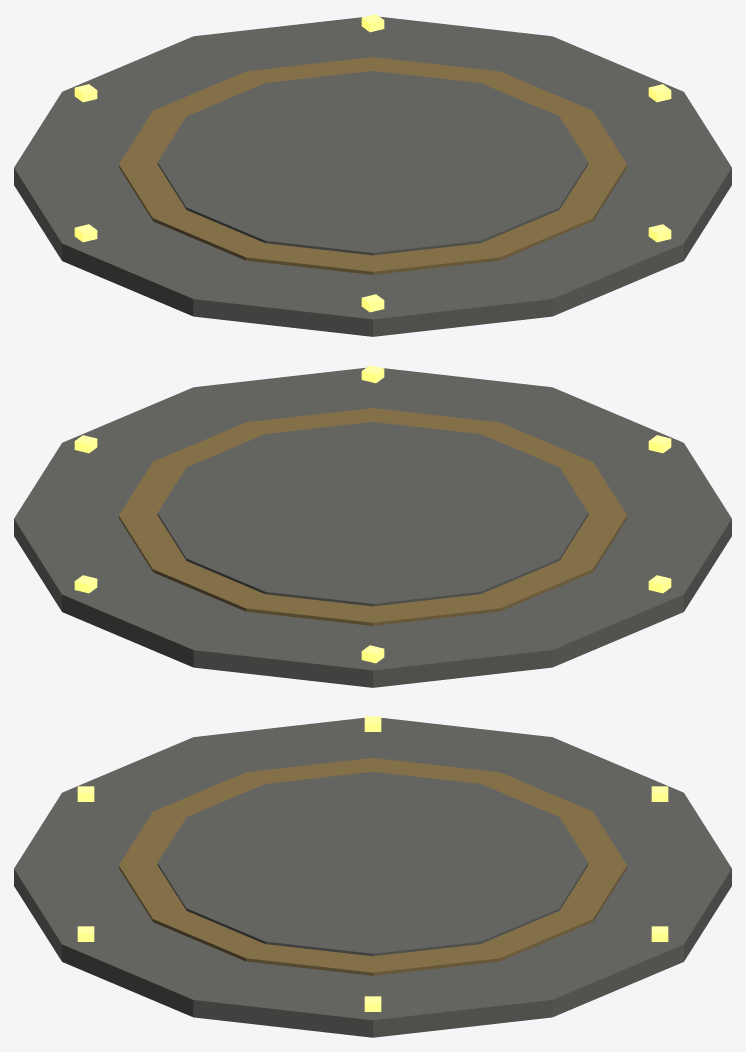
File: landing_pad.glb
3 views of the same model, one above another, from view 1: azimuth 30°, elevation 25°; view 2: azimuth 150°, elevation 25°; view 3: azimuth 270°, elevation 25° (orthographic).
Parts seen in each view (by area): view 1: pad, inner, ring; view 2: pad, inner, ring; view 3: pad, inner, ring.
Part boxes in pixels (x1=…): pad: x1=14, y1=16, x2=731, y2=336; inner: x1=157, y1=71, x2=588, y2=255; ring: x1=119, y1=57, x2=626, y2=274; pad: x1=14, y1=367, x2=731, y2=687; inner: x1=157, y1=422, x2=588, y2=606; ring: x1=119, y1=408, x2=626, y2=625; pad: x1=14, y1=717, x2=731, y2=1037; inner: x1=157, y1=771, x2=588, y2=956; ring: x1=119, y1=758, x2=626, y2=975.
Bounding box in the file's own units: 13 × 0.525 × 13.
